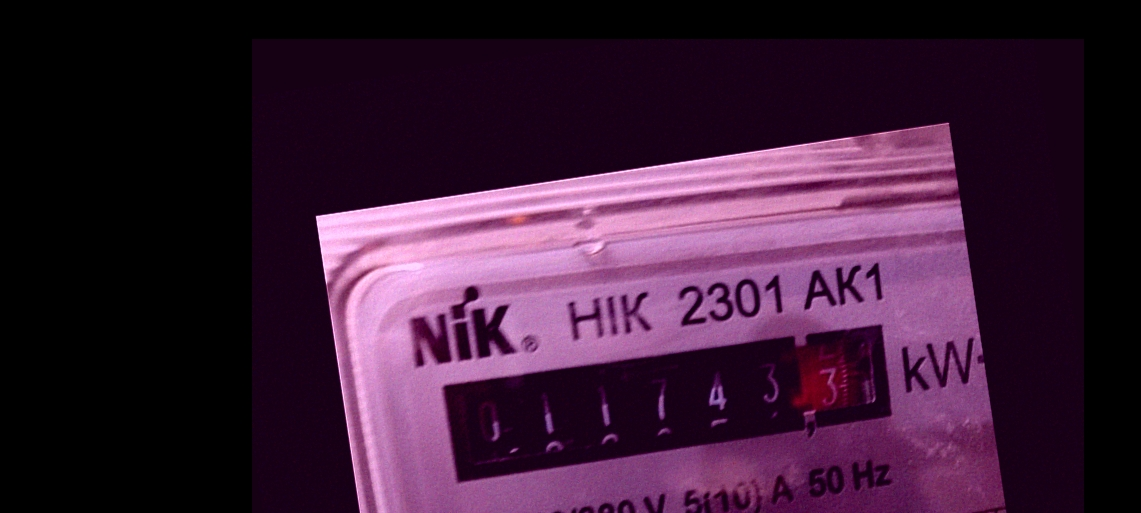0: (472, 397, 507, 447)
1: (591, 381, 619, 432), (536, 390, 560, 440)
3: (753, 358, 788, 409), (815, 364, 845, 411)
4: (700, 365, 734, 417)
7: (646, 375, 677, 426)
screen: (426, 311, 905, 496)
